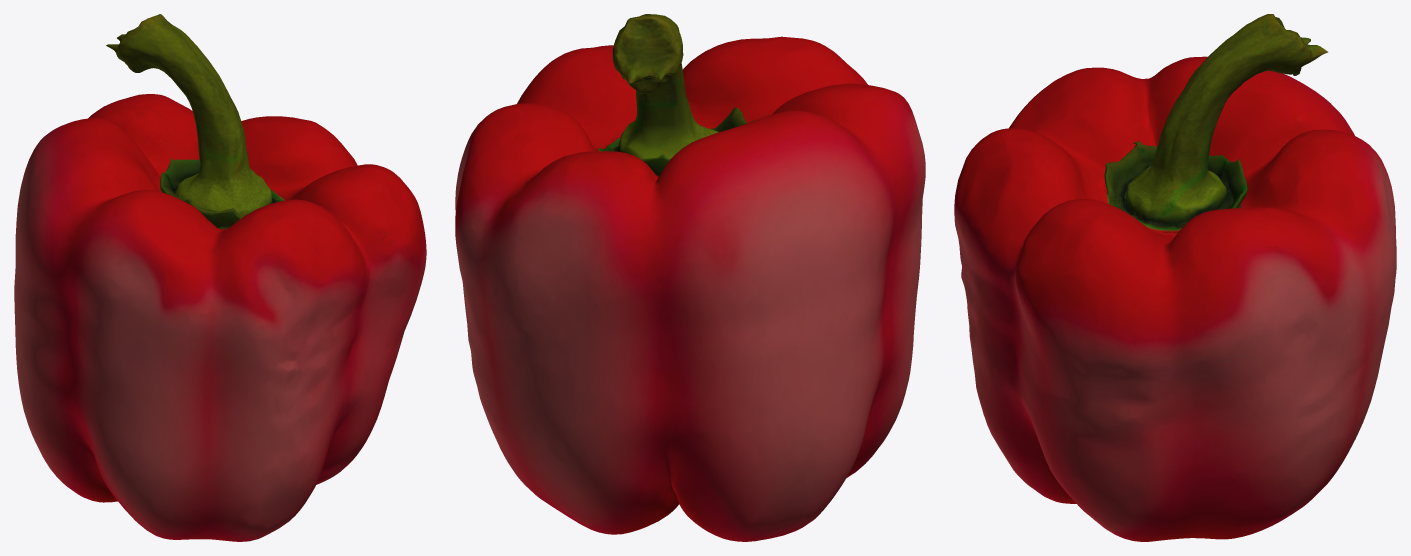
File: pepper.glb
3 renders of one model, left to right at view 1: azimuth 30°, elevation 25°; view 2: azimuth 150°, elevation 25°; view 3: azimuth 270°, elevation 25°, orthographic. The views are drawn at different scales.
Parts seen in each view (by area): view 1: tripo_node_2327a7b9-0f59-4cf8-88a5-c82904522e33; view 2: tripo_node_2327a7b9-0f59-4cf8-88a5-c82904522e33; view 3: tripo_node_2327a7b9-0f59-4cf8-88a5-c82904522e33.
Part boxes in pixels (x1,y1,x2,y2): tripo_node_2327a7b9-0f59-4cf8-88a5-c82904522e33: [14, 14, 426, 541]; tripo_node_2327a7b9-0f59-4cf8-88a5-c82904522e33: [455, 14, 925, 541]; tripo_node_2327a7b9-0f59-4cf8-88a5-c82904522e33: [954, 14, 1396, 541].
Bounding box in the file's own units: 0.8191 × 1 × 0.8355.
1 material, 1 textured.
